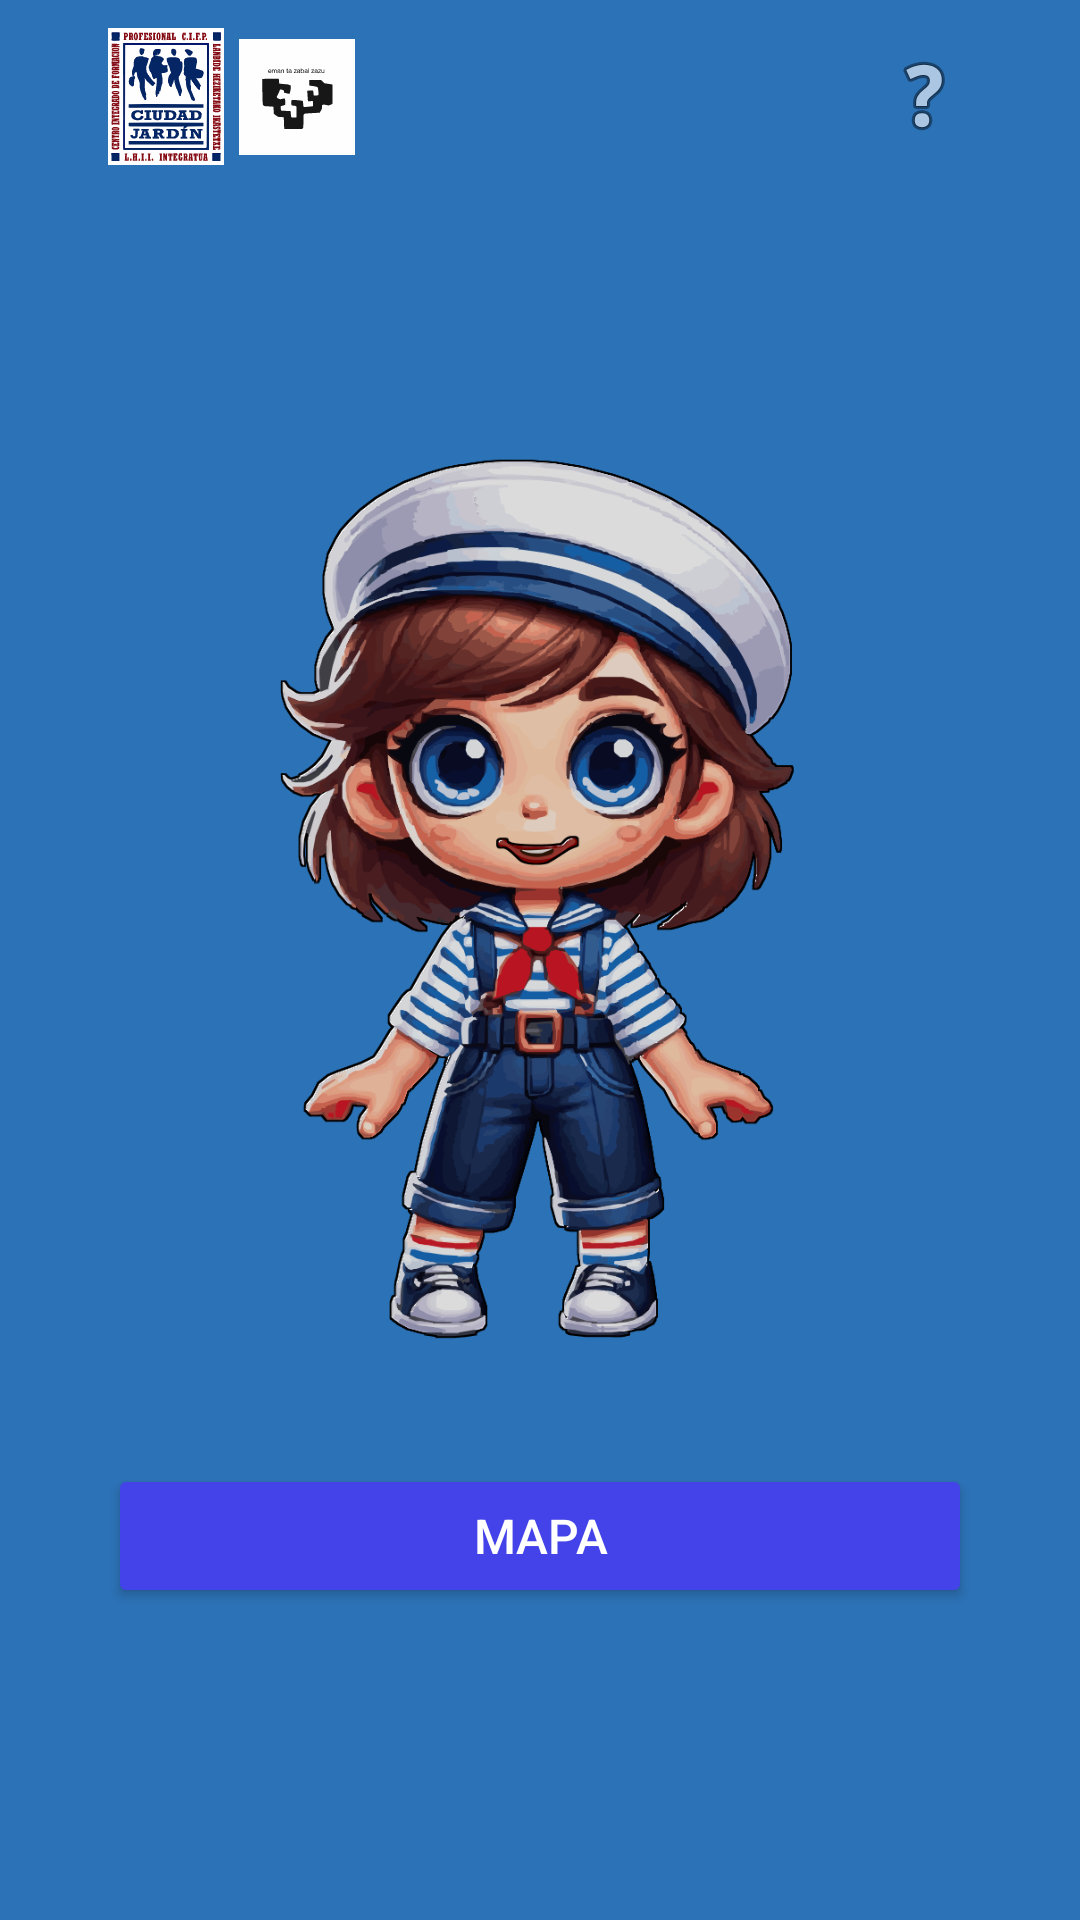

Named icons in this screenshot (1080 × 1920) and their centers, point (x, y):
help: point (924, 96)
